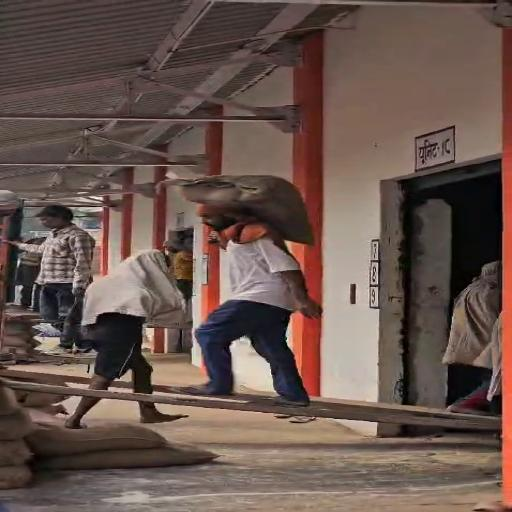bag: (170, 168, 325, 249)
